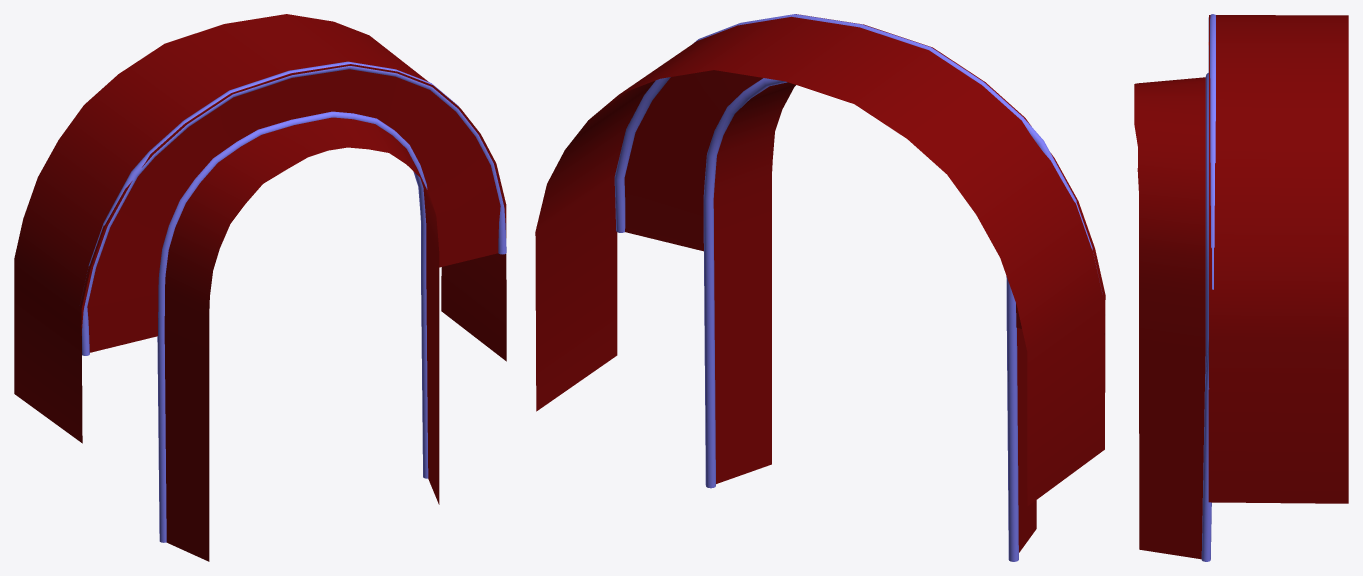
Rendered from techo_sala_cupula_con_uvs.fbx.
The picture shows the model from 3 angles, left to right: view 1: azimuth 30°, elevation 25°; view 2: azimuth 150°, elevation 25°; view 3: azimuth 270°, elevation 25°; orthographic projection. The views are drawn at different scales.
Visible parts, largest first — view 1: Plane003; view 2: Plane003; view 3: Plane003.
Part boxes in pixels (bbox=[...]): Plane003: bbox=[14, 14, 506, 561]; Plane003: bbox=[535, 14, 1105, 561]; Plane003: bbox=[1134, 14, 1348, 561].
Size of the model in its own units: 6381 by 6216 by 2684.
